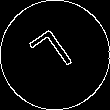L_SE: (28, 26, 82, 84)
